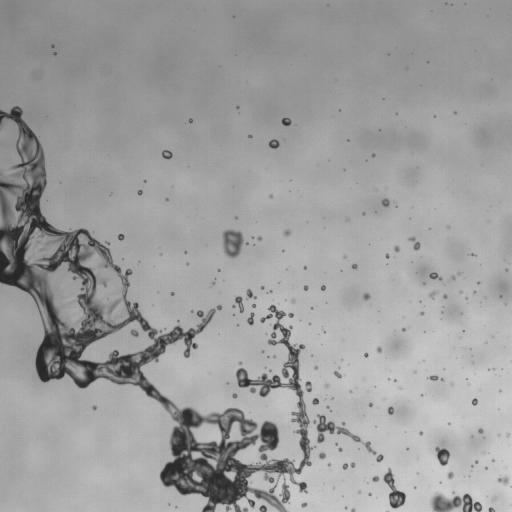droplet: (222, 230, 245, 257), (435, 447, 449, 465), (232, 296, 243, 312), (497, 476, 509, 485), (429, 272, 442, 280), (246, 289, 256, 299), (247, 312, 254, 325), (269, 139, 279, 148), (162, 150, 172, 159), (281, 118, 291, 125), (305, 381, 311, 392), (130, 329, 138, 337), (382, 198, 389, 206), (318, 452, 326, 459), (376, 454, 383, 462), (283, 229, 290, 236), (429, 291, 436, 298), (363, 293, 370, 300), (334, 371, 341, 378), (312, 398, 319, 405), (447, 472, 453, 479), (259, 505, 266, 511), (388, 406, 393, 414), (118, 234, 124, 240), (372, 476, 378, 482), (472, 398, 477, 405), (301, 502, 307, 507), (394, 246, 399, 251), (352, 264, 357, 269), (376, 347, 381, 352), (232, 393, 237, 398), (478, 428, 483, 433), (138, 190, 142, 195), (304, 285, 308, 290), (321, 285, 325, 290), (257, 236, 261, 240), (443, 294, 447, 298), (291, 299, 295, 303), (364, 353, 368, 357), (92, 405, 96, 409), (338, 447, 342, 451), (385, 254, 388, 258), (451, 276, 455, 279), (325, 383, 328, 387), (351, 508, 355, 511), (189, 119, 192, 122), (372, 154, 375, 157), (171, 292, 174, 295), (421, 311, 424, 314), (402, 328, 405, 331), (314, 366, 317, 369), (369, 403, 372, 406), (419, 431, 422, 434), (470, 253, 474, 255), (269, 195, 272, 197), (166, 198, 168, 201), (343, 255, 346, 257), (261, 286, 263, 289), (252, 304, 254, 307), (239, 361, 241, 364), (327, 406, 329, 409), (328, 463, 330, 466), (249, 135, 251, 137), (269, 290, 271, 292), (59, 292, 61, 294), (507, 434, 509, 436), (492, 459, 494, 461)
ligament: (0, 107, 314, 511), (313, 414, 376, 454), (430, 492, 481, 511), (383, 468, 405, 508), (409, 237, 420, 250), (343, 462, 355, 469), (428, 375, 443, 380), (488, 507, 495, 511)
